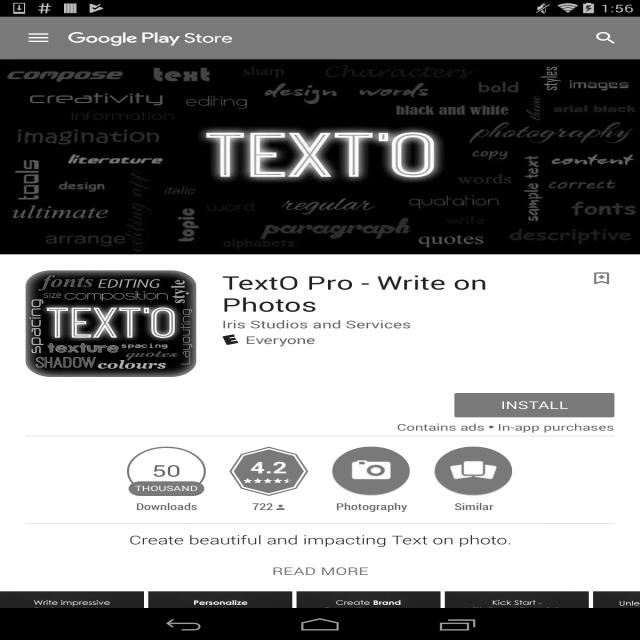Button: (222, 447, 316, 512), (324, 447, 418, 512), (426, 447, 520, 512), (454, 393, 614, 417)
ImageButton: (9, 17, 68, 59)
ImageView: (0, 59, 640, 254), (26, 270, 196, 377), (296, 591, 441, 640), (0, 591, 144, 640), (148, 591, 292, 640), (445, 591, 589, 640), (332, 447, 411, 496), (434, 447, 513, 496), (68, 30, 233, 46), (593, 591, 640, 640), (589, 270, 614, 286), (222, 334, 239, 345), (276, 505, 285, 510)
TextView: (0, 531, 640, 560), (222, 270, 589, 317), (0, 560, 640, 578), (222, 317, 412, 331), (580, 22, 632, 54), (324, 496, 418, 513), (426, 496, 520, 513), (120, 496, 213, 513), (498, 421, 614, 433), (397, 421, 485, 433), (245, 333, 316, 347), (250, 456, 288, 478), (133, 484, 200, 493), (152, 462, 181, 481), (252, 496, 273, 513)
